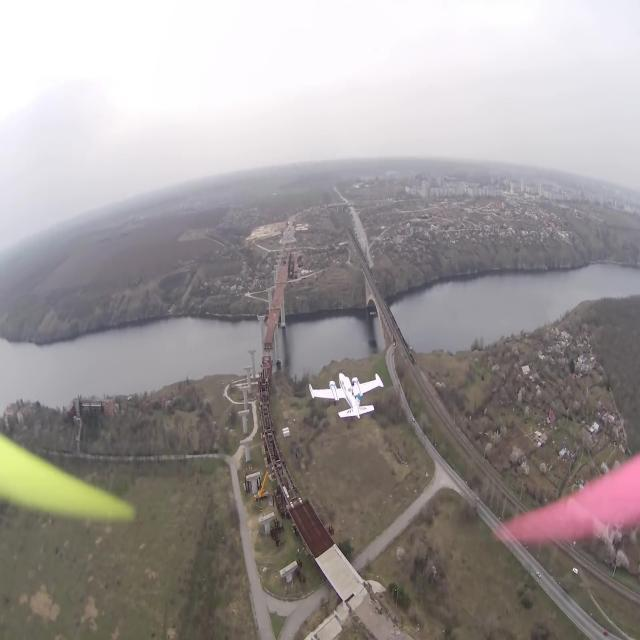iha: (337, 361, 355, 416)
